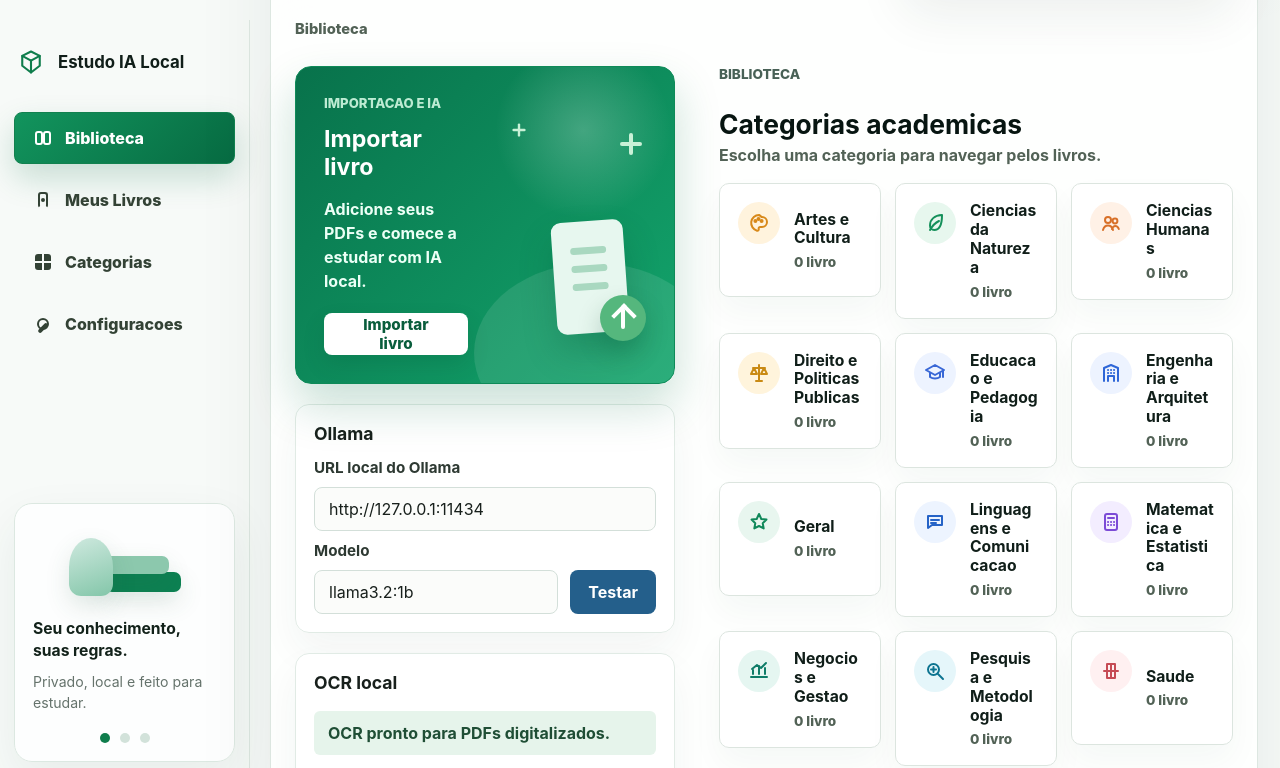
Scenario: App › keeps subcategory cards aligned with icons after choosing a category
The width and height of the screenshot is (1280, 768).
(page scrolled)
Click the button "Educacao e Pedagogia 0 livro". click: (976, 400)
box: x1=895 y1=333 x2=1057 y2=468
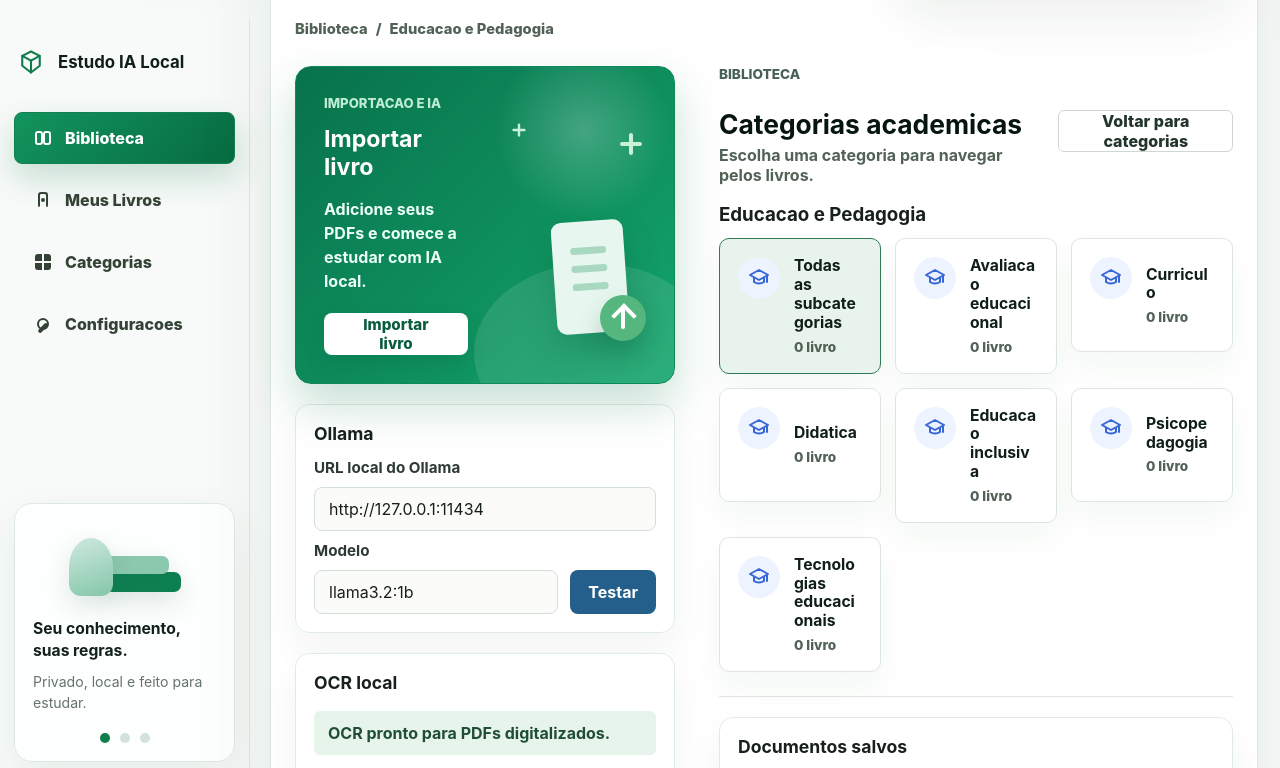
Expected: the 1st icon with class "category-card-icon" is shown, x1=738 y1=257 x2=780 y2=299
Expected: the text "Avaliacao educacional" is shown, x1=970 y1=257 x2=1038 y2=333
